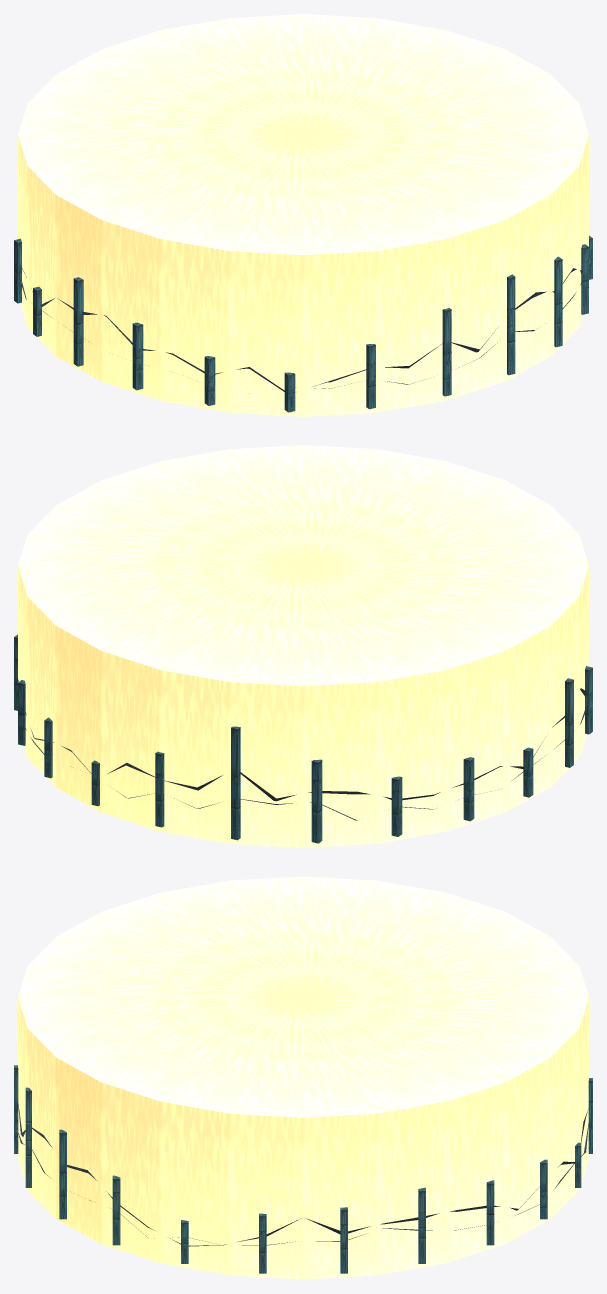
Rendered from level.gltf.
3 renders of one model, top to bottom at view 1: azimuth 30°, elevation 25°; view 2: azimuth 150°, elevation 25°; view 3: azimuth 270°, elevation 25°, orthographic.
Parts seen in each view (by area): view 1: SCENE_GRID; view 2: SCENE_GRID; view 3: SCENE_GRID.
Part boxes in pixels (bbox=[...]): SCENE_GRID: bbox=[14, 14, 592, 416]; SCENE_GRID: bbox=[14, 445, 592, 847]; SCENE_GRID: bbox=[14, 876, 592, 1279].
Size of what is drawn, in the model's own units: 243 by 75.69 by 246.
Materials: 2 (2 with a texture image).
